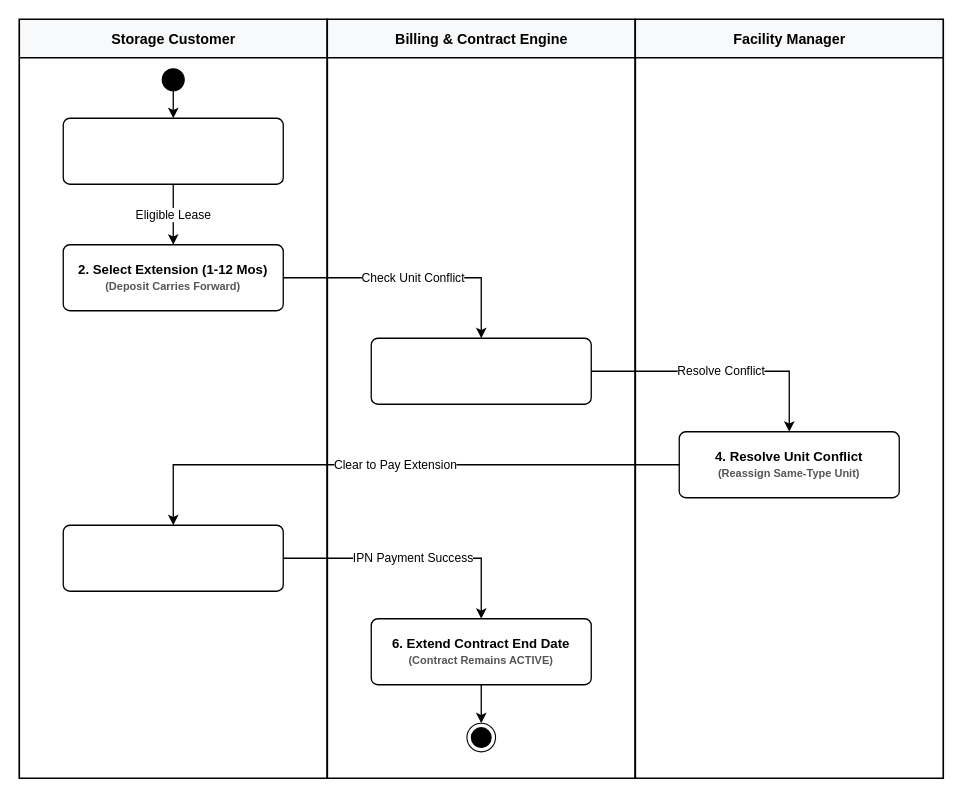
This 964x799 diagram has some shape labels left out. The centre of each missing label's shape, as x and y in pixels:
"1. Open Renewal Portal (Window: T-30 to T-20 days)" belongs at (172,150).
"3. Verify No Next Reservation (Anti-Overlap Check, BR-REN-02)" belongs at (480,370).
"5. Complete VNPay Renewal (Extension Invoice Settled)" belongs at (172,557).
